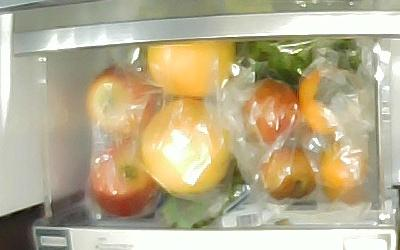apple_vinyl: (83, 64, 163, 144), (89, 144, 155, 217)
grapefruit_vinyl: (140, 97, 230, 196), (146, 40, 234, 96)
persimmon_vinyl: (298, 68, 355, 136), (320, 142, 366, 201)
prune_vinyl: (240, 79, 299, 144), (258, 147, 316, 200)
